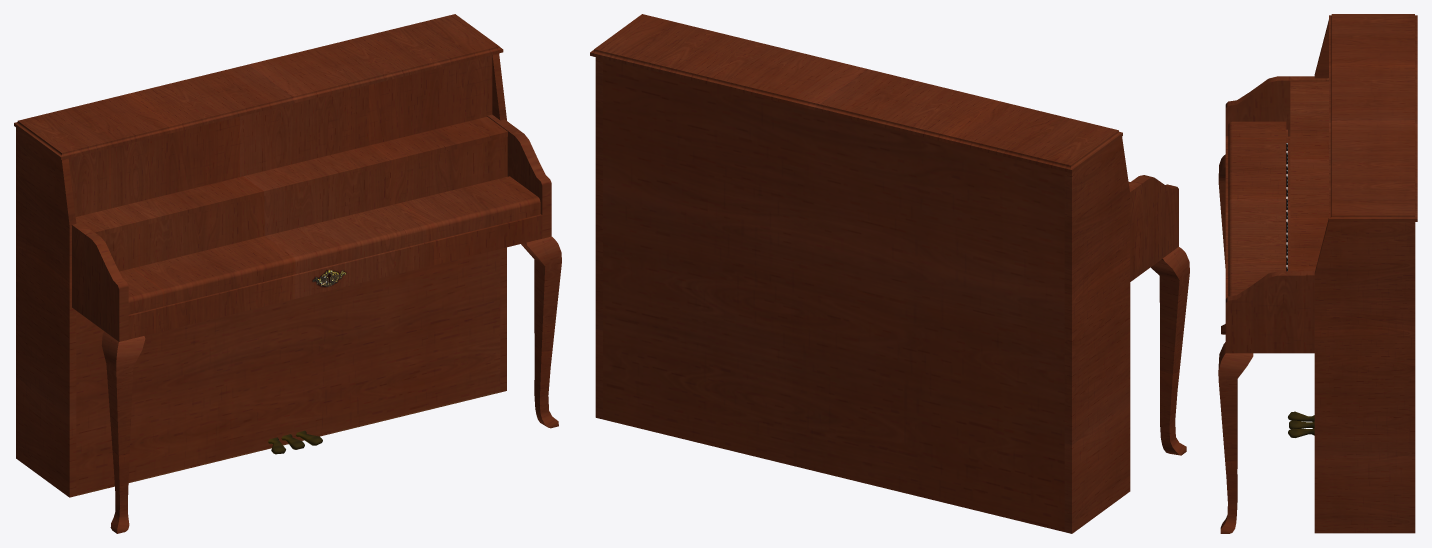
File: Upright_piano_Lesson.fbx
3 views of the same model, side by side, from view 1: azimuth 30°, elevation 25°; view 2: azimuth 150°, elevation 25°; view 3: azimuth 270°, elevation 25° (orthographic). The views are drawn at different scales.
Visible parts, largest first — view 1: polySurface2, polySurface1; view 2: polySurface2; view 3: polySurface2, polySurface1.
Boxes of the visible parts, left/top/right/bottom form: polySurface2: left=14, top=14, right=561, bottom=533; polySurface1: left=119, top=176, right=540, bottom=314; polySurface2: left=590, top=14, right=1189, bottom=533; polySurface2: left=1218, top=14, right=1417, bottom=533; polySurface1: left=1228, top=121, right=1286, bottom=296.
Bounding box in the file's own units: 114 × 82.81 × 46.93.
1 material, 1 textured.
